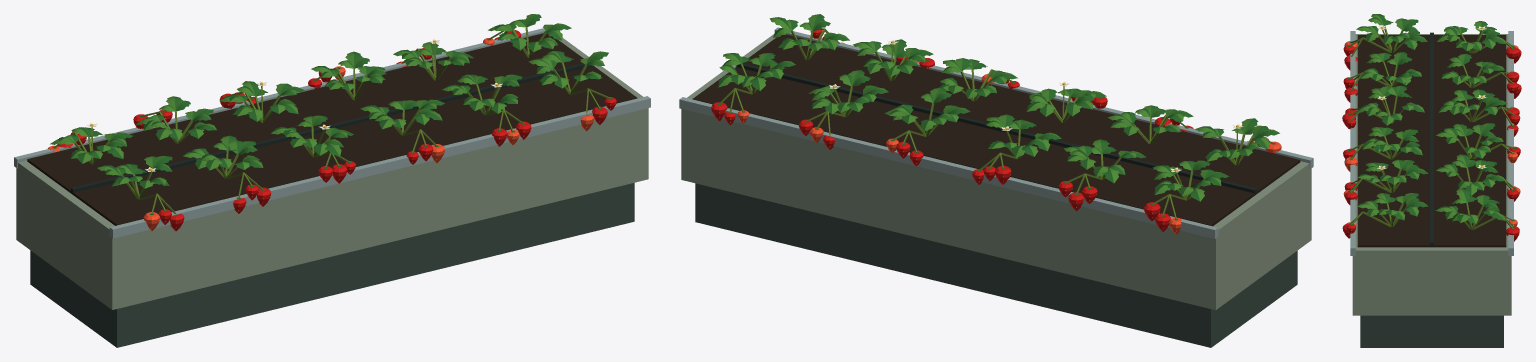
Rendered from strawberry_bed.dae.
3 renders of one model, left to right at view 1: azimuth 30°, elevation 25°; view 2: azimuth 150°, elevation 25°; view 3: azimuth 270°, elevation 25°, orthographic. The views are drawn at different scales.
Visible parts, largest first — view 1: model; view 2: model; view 3: model.
Boxes of the visible parts, x1,y1,x2,y2 form: model: [14, 14, 650, 347]; model: [679, 14, 1313, 347]; model: [1342, 14, 1521, 347].
Bounding box in the file's own units: 4.01 × 1.4 × 1.13.
